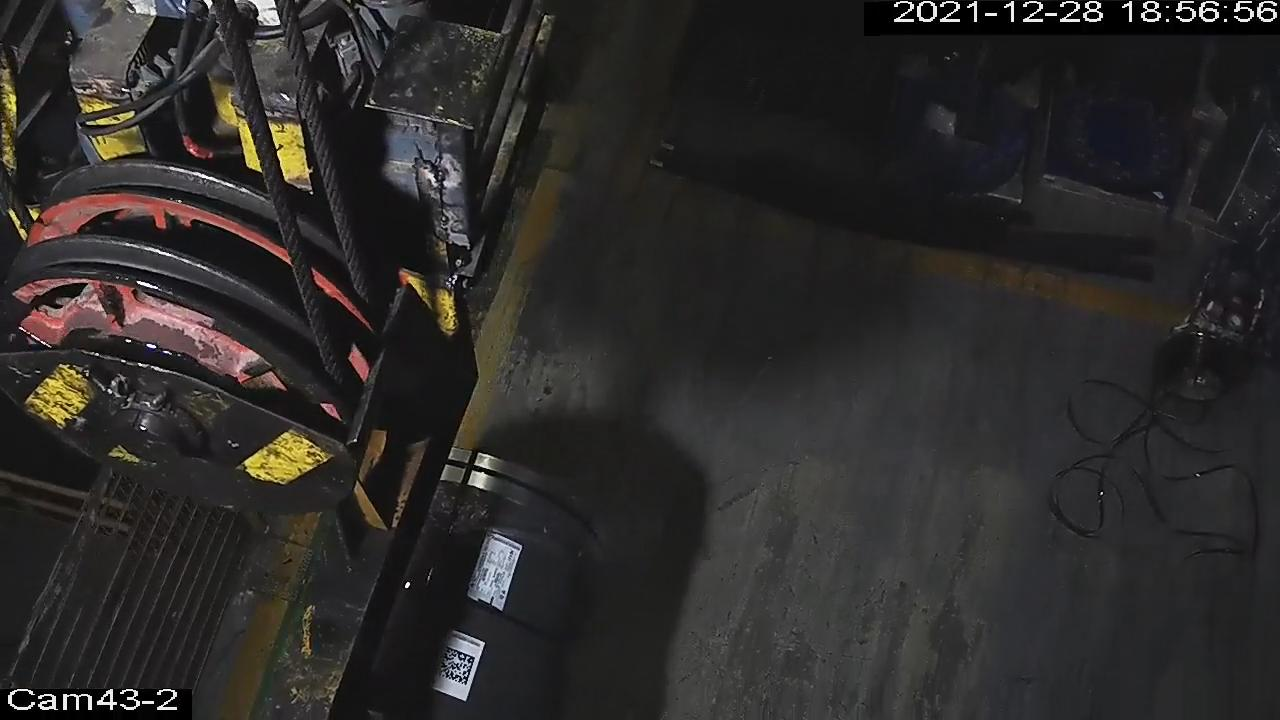data matrix: (436, 644, 478, 688)
